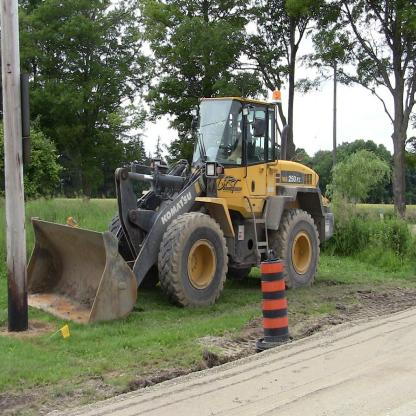bull_dozer/loader/grader: (21, 84, 346, 336)
